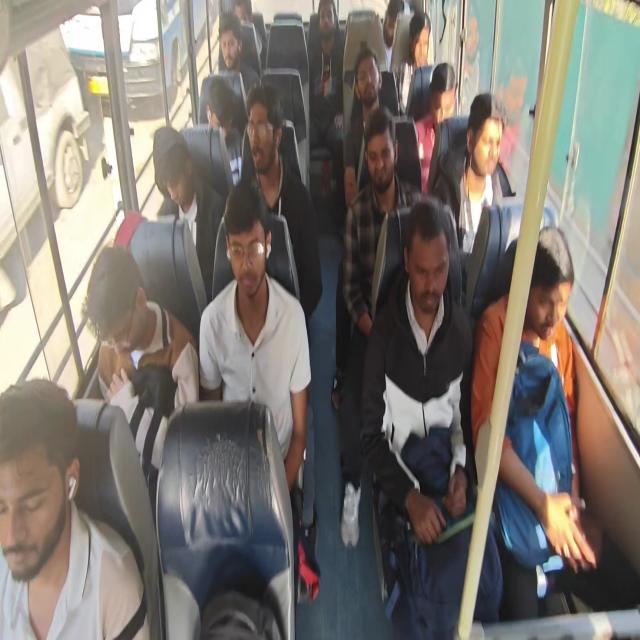person: (0, 377, 86, 573), (84, 247, 150, 356), (407, 196, 458, 320), (512, 256, 578, 350), (149, 136, 203, 222), (227, 206, 268, 302), (429, 64, 462, 134), (474, 113, 506, 177), (364, 124, 396, 188), (246, 106, 278, 169), (353, 53, 380, 104), (206, 100, 236, 144), (314, 0, 340, 45), (382, 5, 406, 46), (223, 25, 242, 65), (230, 0, 256, 25)
